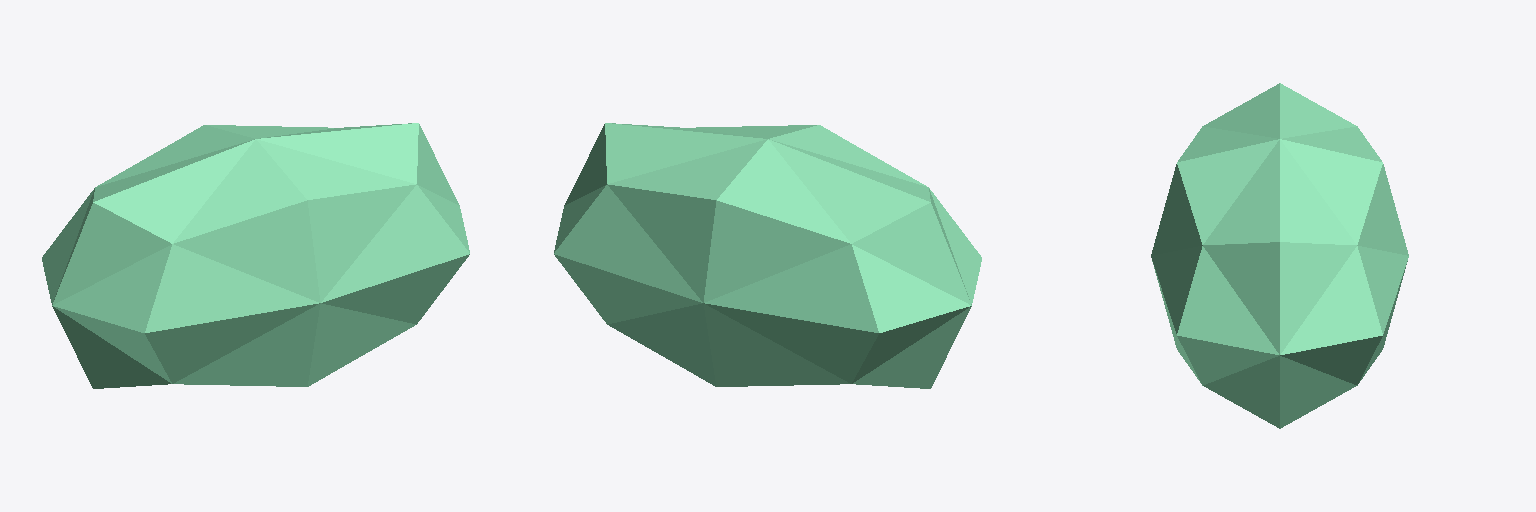
3 renders of one model, left to right at view 1: azimuth 30°, elevation 25°; view 2: azimuth 150°, elevation 25°; view 3: azimuth 270°, elevation 25°, orthographic.
Parts seen in each view (by area): view 1: 立方体; view 2: 立方体; view 3: 立方体.
Part boxes in pixels (left/top/right/bottom): 立方体: left=42, top=123, right=469, bottom=388; 立方体: left=554, top=123, right=981, bottom=388; 立方体: left=1151, top=83, right=1408, bottom=428.
Bounding box in the file's own units: 8.45 × 4.63 × 4.63.
Materials: 1 (1 with a texture image).